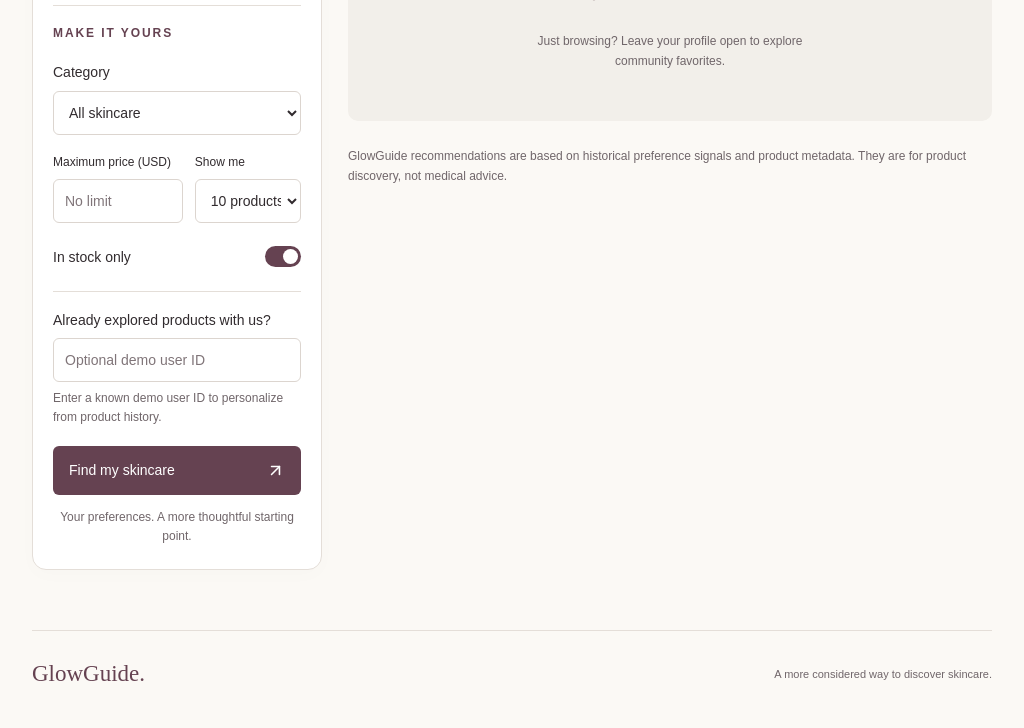
Scenario: recommendation experience › renders collaborative with a human-readable strategy
The width and height of the screenshot is (1024, 728).
(page scrolled)
Click the button "Find my skincare".
click(177, 470)  # box [53,446,301,495]
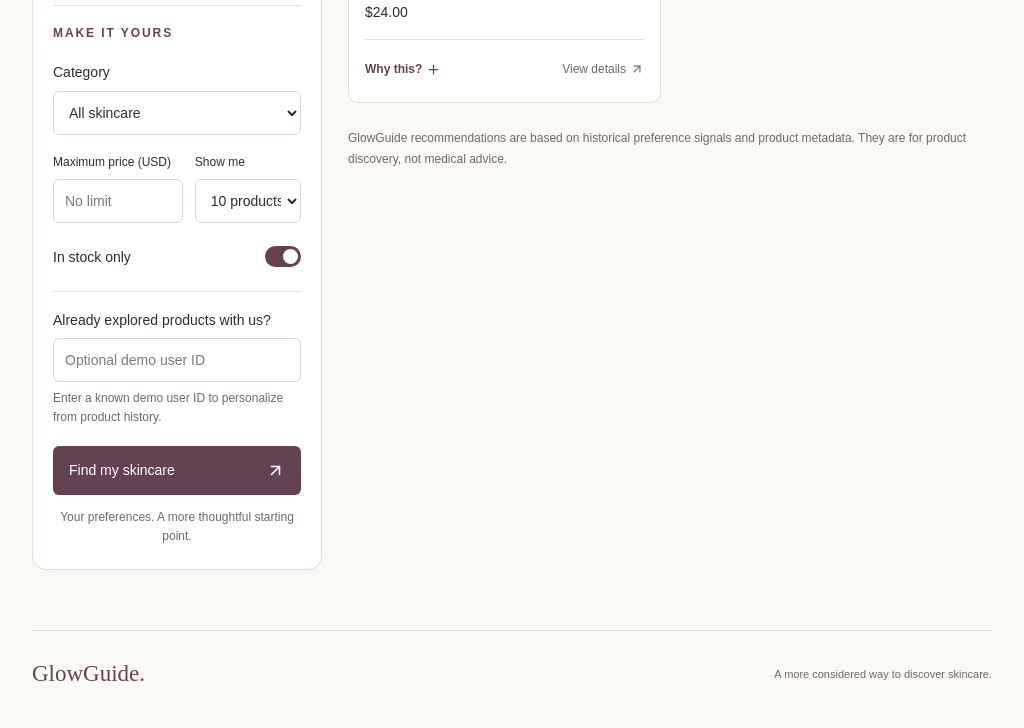
Check: the text "$24.00" is shown, box [365,4,408,20]
